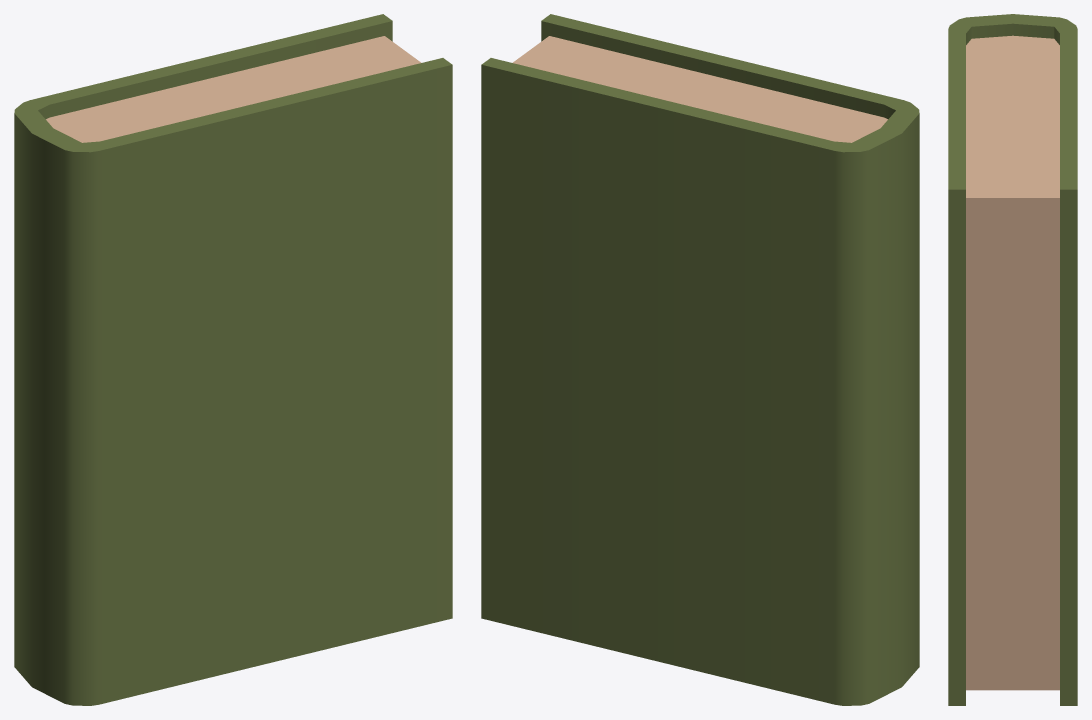
File: Book_06.glb
3 views of the same model, side by side, from view 1: azimuth 30°, elevation 25°; view 2: azimuth 150°, elevation 25°; view 3: azimuth 270°, elevation 25° (orthographic). The views are drawn at different scales.
Visible parts, largest first — view 1: Book_06_LOD0; view 2: Book_06_LOD0; view 3: Book_06_LOD0.
Boxes of the visible parts, bbox=[...] form: Book_06_LOD0: bbox=[14, 14, 452, 705]; Book_06_LOD0: bbox=[481, 14, 919, 705]; Book_06_LOD0: bbox=[948, 14, 1077, 705].
Size of what is drawn, in the model's own units: 0.2358 by 0.3233 by 0.0733.
Materials: 1 (1 with a texture image).
